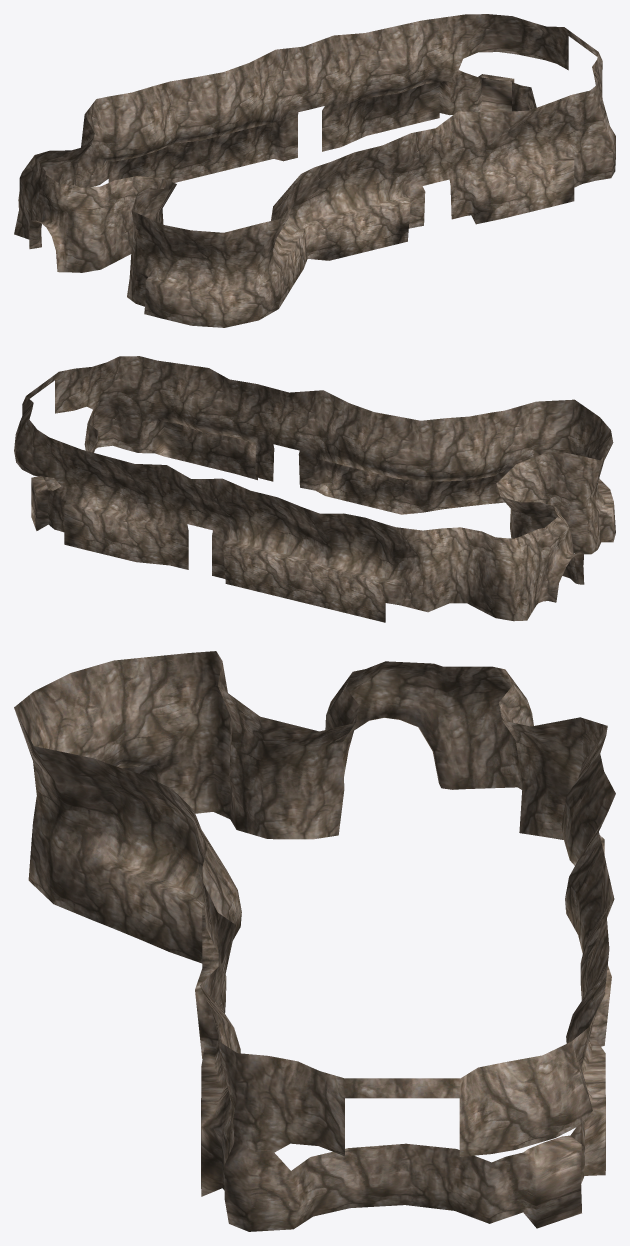
The model's file is EKH_GROTTO_PS_GR_OBJECT43.fbx.
3 views of the same model, one above another, from view 1: azimuth 30°, elevation 25°; view 2: azimuth 150°, elevation 25°; view 3: azimuth 270°, elevation 25° (orthographic). The views are drawn at different scales.
Visible parts, largest first — view 1: EKH_GROTTO_PS_GR_OBJECT43; view 2: EKH_GROTTO_PS_GR_OBJECT43; view 3: EKH_GROTTO_PS_GR_OBJECT43.
Part boxes in pixels (<box>): EKH_GROTTO_PS_GR_OBJECT43: <box>14,14,615,327</box>; EKH_GROTTO_PS_GR_OBJECT43: <box>14,356,615,622</box>; EKH_GROTTO_PS_GR_OBJECT43: <box>14,651,615,1231</box>.
Size of the model in its own units: 294652 by 56805 by 164354.
1 material, 1 textured.
